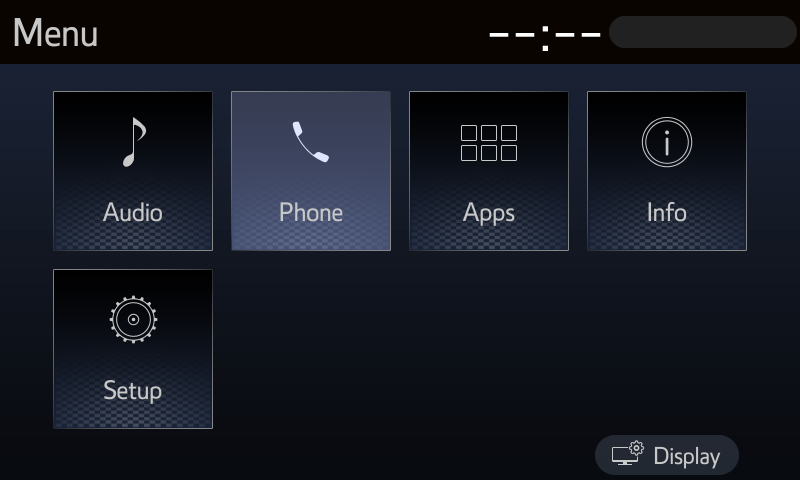touchPart: (587, 91, 746, 250), (53, 271, 212, 429), (231, 91, 390, 249), (53, 93, 212, 249), (412, 93, 568, 251), (592, 434, 741, 474)
untouchPart: (610, 9, 796, 50), (474, 16, 602, 54), (13, 12, 101, 55)
